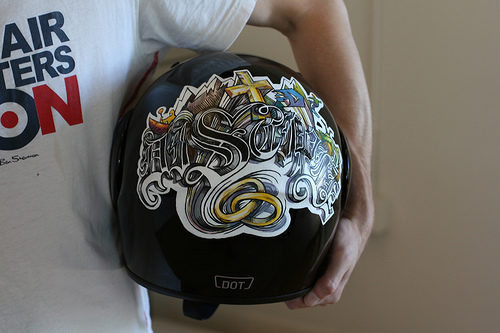helmet: (114, 55, 341, 286)
